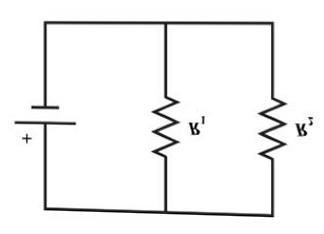resistor: (143, 90, 183, 171), (255, 82, 288, 168)
